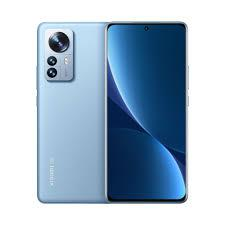Smartphone: (107, 19, 188, 200), (32, 17, 106, 201)
